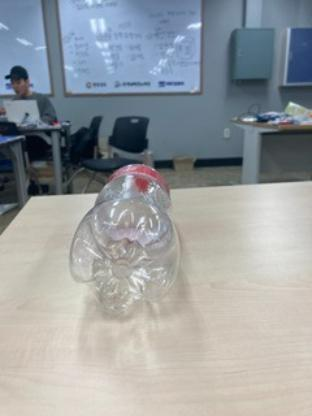Plastic Bottle: (68, 157, 182, 323)
